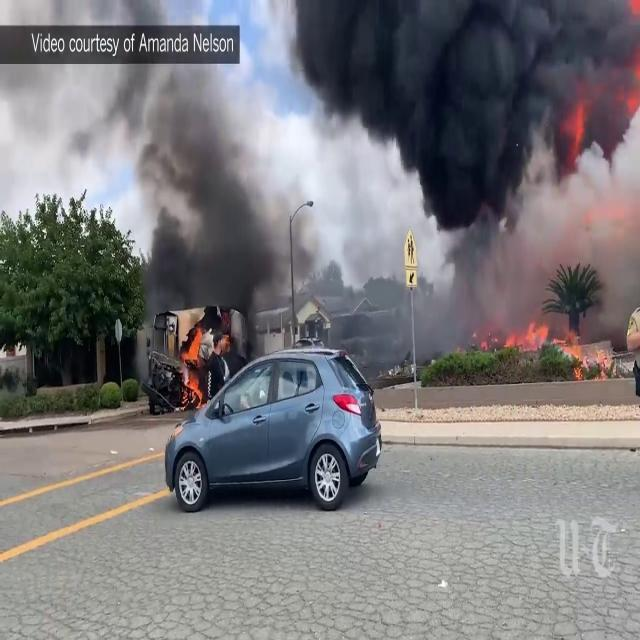Fire: (507, 316, 612, 376), (180, 324, 207, 407)
Smoke: (302, 0, 640, 338), (0, 0, 284, 315)
